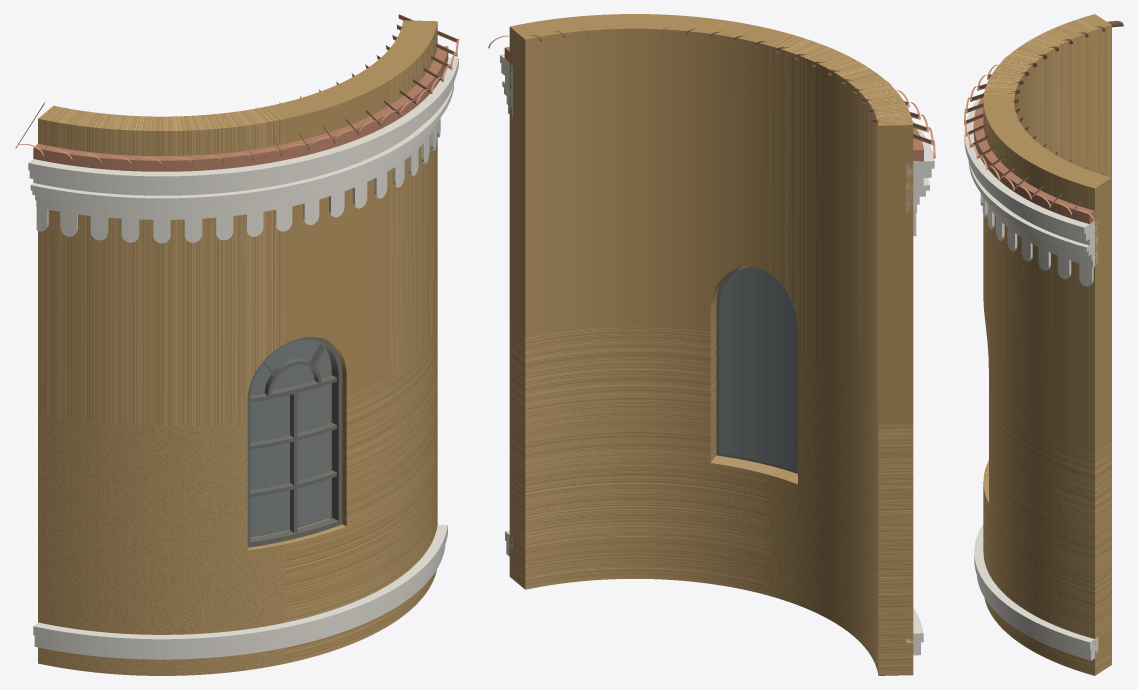
Rendered from tailaxincun-curved-bay-and-arched-window-near.glb.
3 views of the same model, side by side, from view 1: azimuth 30°, elevation 25°; view 2: azimuth 150°, elevation 25°; view 3: azimuth 270°, elevation 25° (orthographic). The views are drawn at different scales.
Parts seen in each view (by area): view 1: 台拉新村支弄弧墙上的圆首钢窗与白色檐带; view 2: 台拉新村支弄弧墙上的圆首钢窗与白色檐带; view 3: 台拉新村支弄弧墙上的圆首钢窗与白色檐带.
Boxes of the visible parts, left/top/right/bottom form: 台拉新村支弄弧墙上的圆首钢窗与白色檐带: left=15, top=14, right=459, bottom=675; 台拉新村支弄弧墙上的圆首钢窗与白色檐带: left=488, top=14, right=935, bottom=675; 台拉新村支弄弧墙上的圆首钢窗与白色檐带: left=964, top=14, right=1123, bottom=675.
Bounding box in the file's own units: 2.6 × 3.08 × 0.9062.
6 materials, 1 textured.
